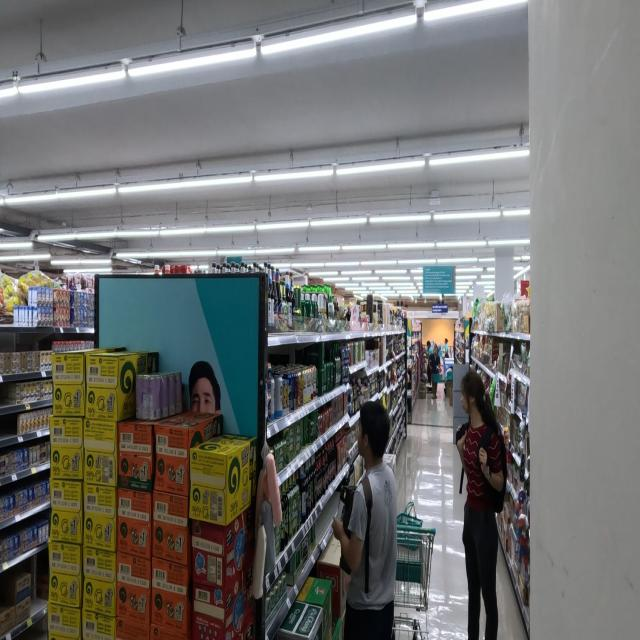shoplifting: (333, 406, 398, 640)
